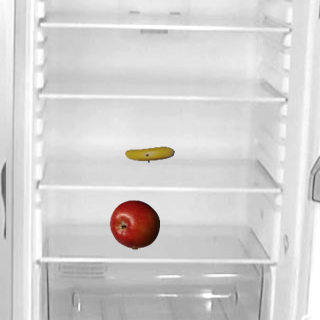Apple Braeburn: (109, 199, 159, 249)
Banana: (124, 129, 174, 179)
